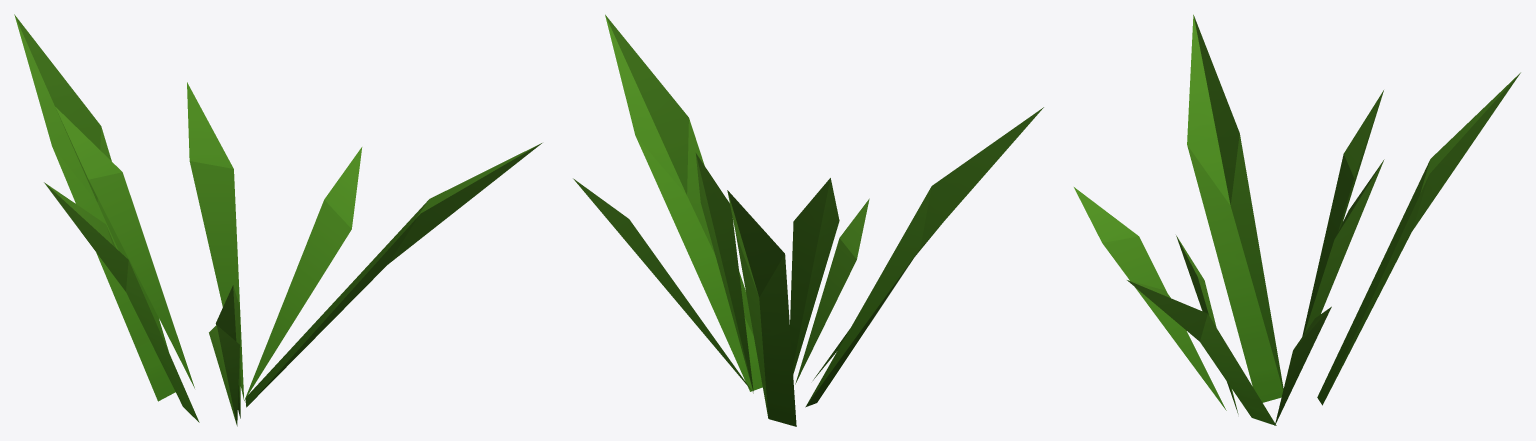
Rendered from SM_Grass.fbx.
The picture shows the model from 3 angles, left to right: view 1: azimuth 30°, elevation 25°; view 2: azimuth 150°, elevation 25°; view 3: azimuth 270°, elevation 25°; orthographic projection. The views are drawn at different scales.
Visible parts, largest first — view 1: Plane.002; view 2: Plane.002; view 3: Plane.002.
Boxes of the visible parts, x1,y1,x2,y2 form: Plane.002: [14, 14, 541, 426]; Plane.002: [573, 14, 1043, 426]; Plane.002: [1074, 14, 1520, 425].
Size of the model in its own units: 30.82 by 20.32 by 26.64.
